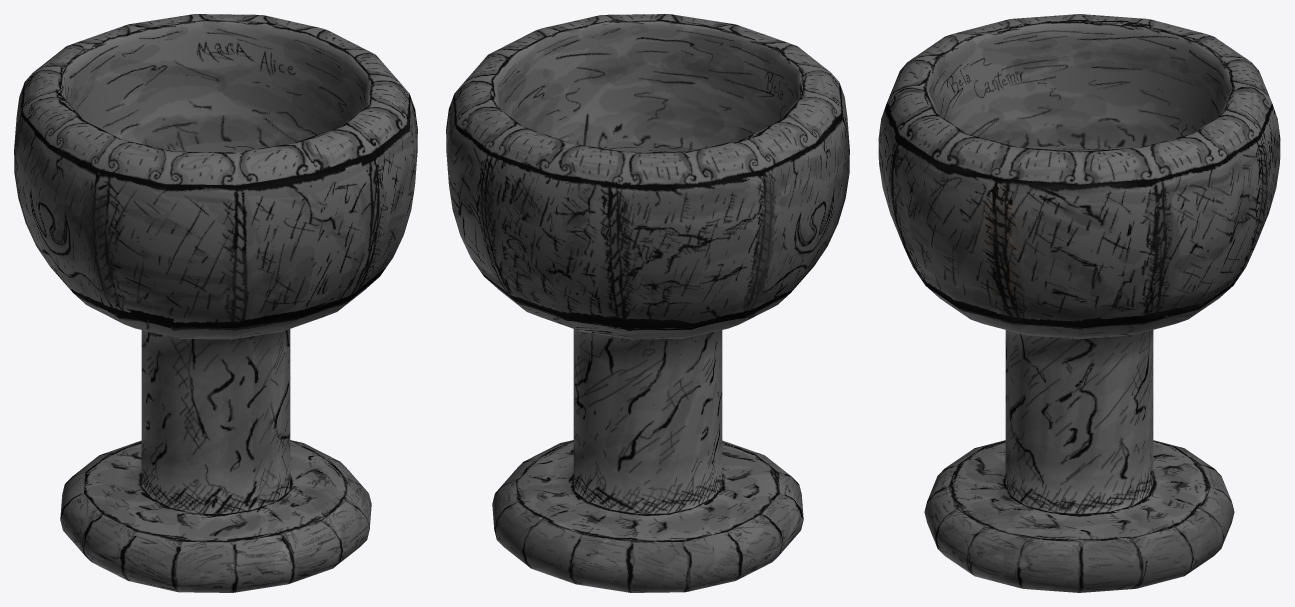
The model's file is Fountain.fbx.
3 renders of one model, left to right at view 1: azimuth 30°, elevation 25°; view 2: azimuth 150°, elevation 25°; view 3: azimuth 270°, elevation 25°, orthographic.
Parts seen in each view (by area): view 1: Fountain.001; view 2: Fountain.001; view 3: Fountain.001.
Part boxes in pixels (x1=…): Fountain.001: x1=14, y1=14, x2=417, y2=592; Fountain.001: x1=446, y1=14, x2=849, y2=592; Fountain.001: x1=878, y1=14, x2=1280, y2=592.
Bounding box in the file's own units: 238 × 298 × 238.
1 material, 1 textured.
